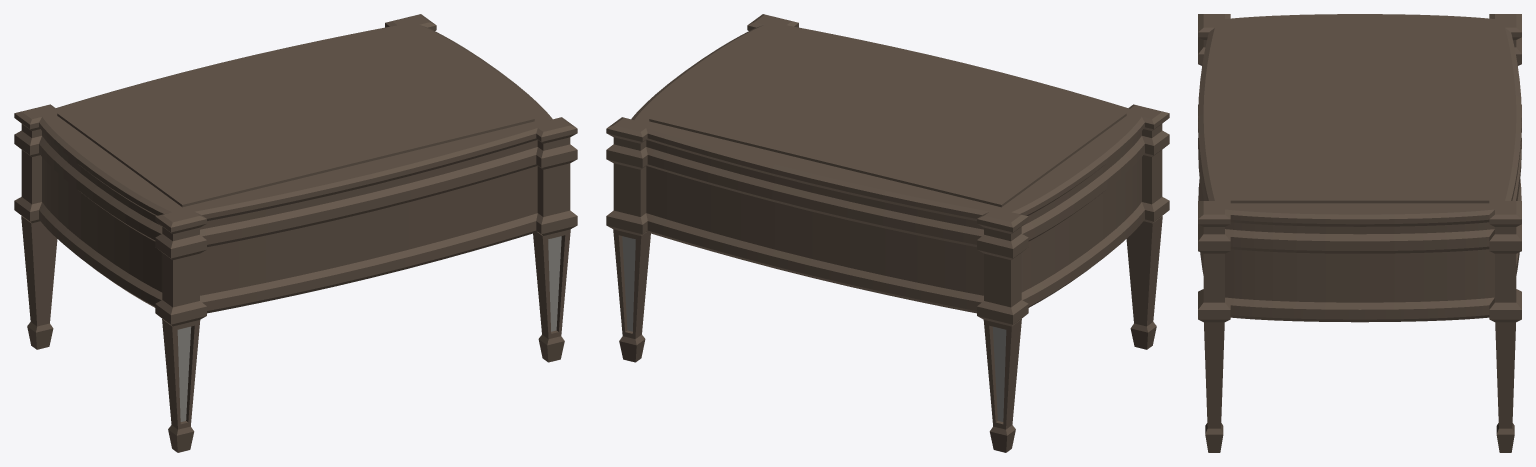
Rendered from coffeeTable.FBX.
3 renders of one model, left to right at view 1: azimuth 30°, elevation 25°; view 2: azimuth 150°, elevation 25°; view 3: azimuth 270°, elevation 25°, orthographic. The views are drawn at different scales.
Visible parts, largest first — view 1: Table; view 2: Table; view 3: Table.
Boxes of the visible parts, bbox=[...] form: Table: bbox=[14, 14, 577, 452]; Table: bbox=[606, 14, 1169, 452]; Table: bbox=[1198, 14, 1521, 452].
Size of the model in its own units: 50.73 by 28.18 by 33.82.
